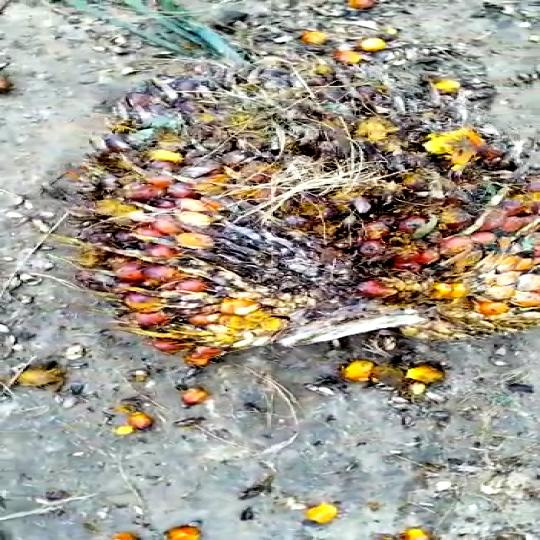masak: (59, 66, 540, 393)
